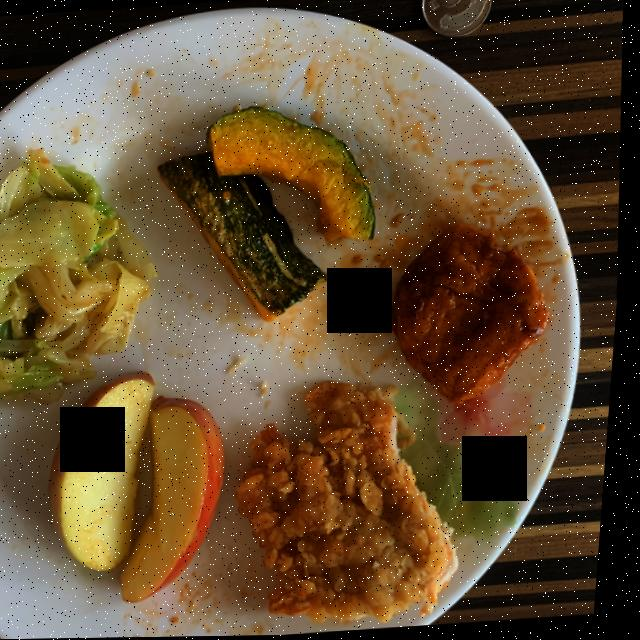apple -sliced-: (56, 373, 230, 603)
cabbage: (0, 149, 160, 403)
coin: (421, 0, 491, 39)
creamy tofu: (394, 225, 552, 405)
fried chicken cutlet: (243, 382, 466, 624)
pumpkin: (160, 108, 377, 322)
